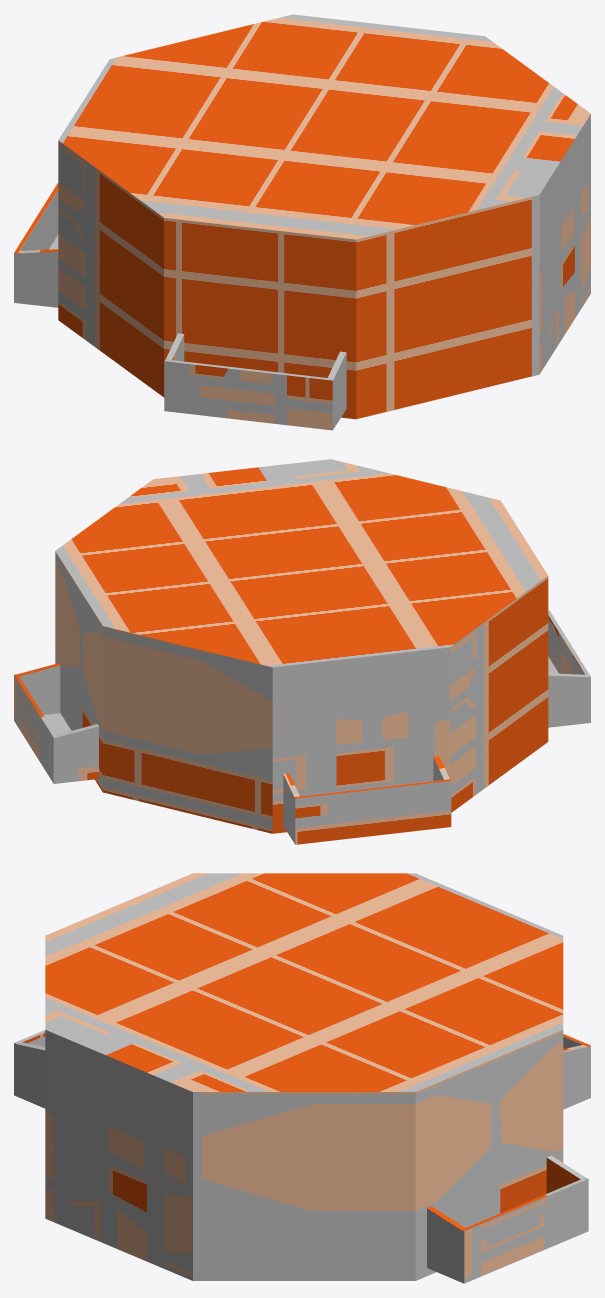
Rendered from 3_balkonlu_kat.fbx.
The picture shows the model from 3 angles, top to bottom: view 1: azimuth 30°, elevation 25°; view 2: azimuth 150°, elevation 25°; view 3: azimuth 270°, elevation 25°; orthographic projection. The views are drawn at different scales.
Visible parts, largest first — view 1: Cube.003; view 2: Cube.003; view 3: Cube.003.
Part boxes in pixels (x1=…): Cube.003: x1=14, y1=14, x2=590, y2=430; Cube.003: x1=14, y1=459, x2=590, y2=844; Cube.003: x1=14, y1=873, x2=590, y2=1283.
Bounding box in the file's own units: 221 × 80.52 × 223.
